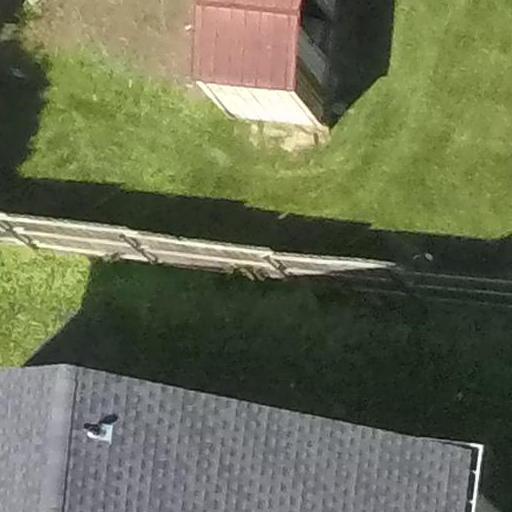fence: (8, 199, 512, 335)
